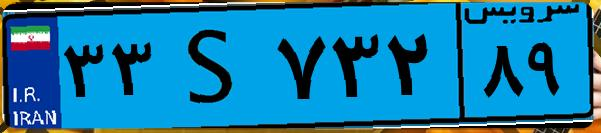2: (385, 28, 445, 110)
3: (330, 28, 385, 110), (57, 26, 110, 100), (110, 28, 158, 98)
7: (270, 28, 330, 110)
8: (475, 38, 525, 113)
9: (525, 38, 570, 115)
S: (158, 12, 270, 120)
